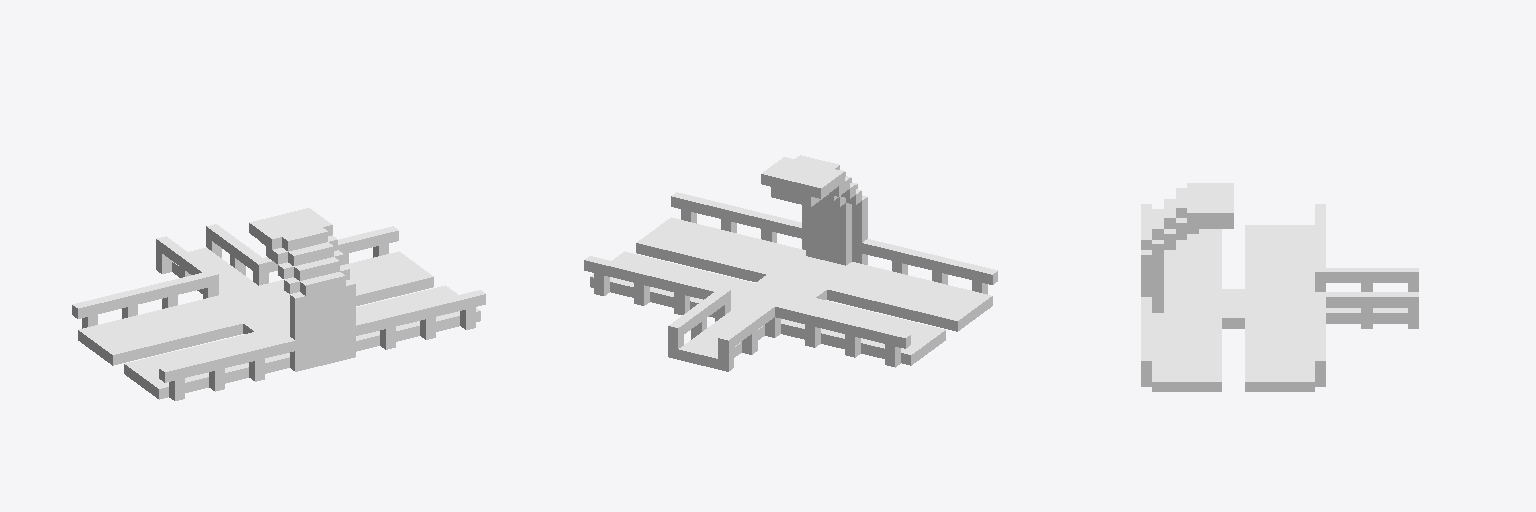
File: roadPedestrian.obj
3 views of the same model, side by side, from view 1: azimuth 30°, elevation 25°; view 2: azimuth 150°, elevation 25°; view 3: azimuth 270°, elevation 25° (orthographic).
Visible parts, largest first — view 1: roadPedestrian; view 2: roadPedestrian; view 3: roadPedestrian.
Boxes of the visible parts, x1=… form: roadPedestrian: x1=72, y1=208, x2=485, y2=400; roadPedestrian: x1=584, y1=155, x2=997, y2=371; roadPedestrian: x1=1141, y1=183, x2=1418, y2=391.
Size of the model in its own units: 3.2 by 1.1 by 2.4.